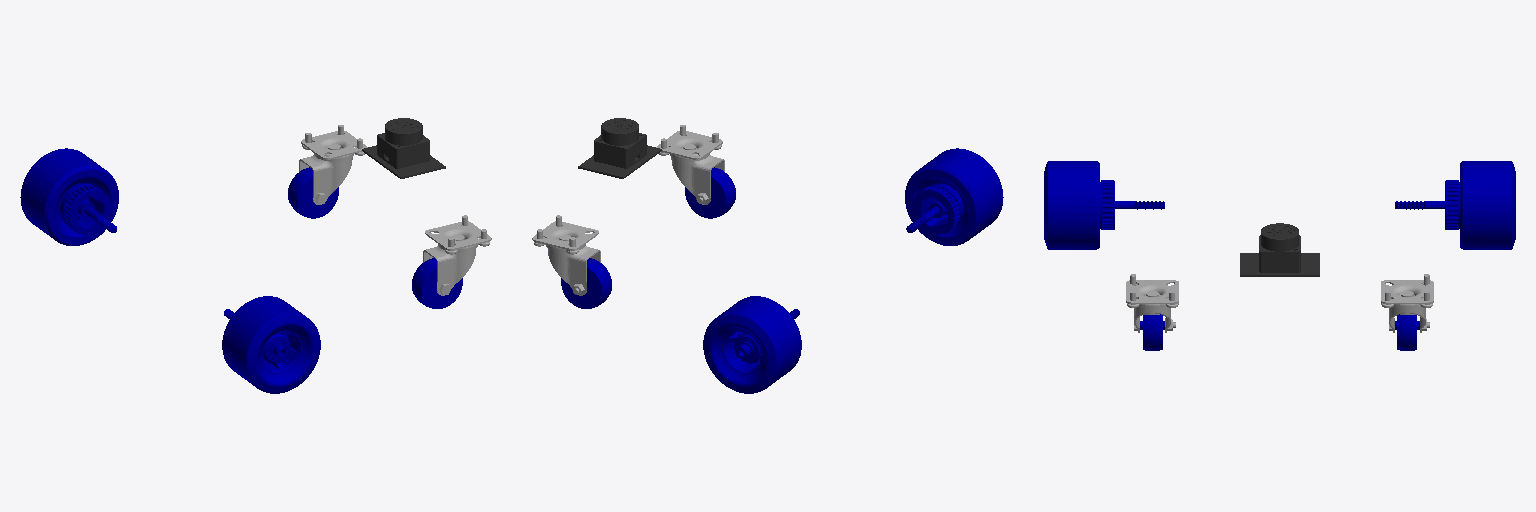
robot.urdf — scuttle:
<?xml version="1.0" ?>
<!-- =================================================================================== -->
<!-- |    This document was autogenerated by xacro from /home/daniesh/drl_docker/scuttle_classic/urdf/scuttle.xacro | -->
<!-- |    EDITING THIS FILE BY HAND IS NOT RECOMMENDED                                 | -->
<!-- =================================================================================== -->
<robot name="scuttle">
  <material name="silver">
    <color rgba="0.700 0.700 0.700 1.000"/>
  </material>
  <material name="gray">
    <color rgba="0.250 0.250 0.250 1.000"/>
  </material>
  <material name="blue">
    <color rgba="0.000 0.000 0.700 1.000"/>
  </material>
  <!-- Left wheel joint transmission (velocity-controlled) -->
  <transmission name="l_wheel_joint_tran">
    <type>transmission_interface/SimpleTransmission</type>
    <joint name="l_wheel_joint">
      <hardwareInterface>hardware_interface/VelocityJointInterface</hardwareInterface>
    </joint>
    <actuator name="l_wheel_joint_actr">
      <hardwareInterface>hardware_interface/VelocityJointInterface</hardwareInterface>
      <mechanicalReduction>1</mechanicalReduction>
    </actuator>
  </transmission>
  <!-- Right wheel joint transmission (velocity-controlled) -->
  <transmission name="r_wheel_joint_tran">
    <type>transmission_interface/SimpleTransmission</type>
    <joint name="r_wheel_joint">
      <hardwareInterface>hardware_interface/VelocityJointInterface</hardwareInterface>
    </joint>
    <actuator name="r_wheel_joint_actr">
      <hardwareInterface>hardware_interface/VelocityJointInterface</hardwareInterface>
      <mechanicalReduction>1</mechanicalReduction>
    </actuator>
  </transmission>
  <!-- Right caster swivel (passive) -->
  <transmission name="r_caster_swivel_joint_tran">
    <type>transmission_interface/SimpleTransmission</type>
    <joint name="r_caster_swivel_joint">
      <hardwareInterface>hardware_interface/EffortJointInterface</hardwareInterface>
    </joint>
    <actuator name="r_caster_swivel_joint_actr">
      <hardwareInterface>hardware_interface/EffortJointInterface</hardwareInterface>
      <mechanicalReduction>1</mechanicalReduction>
    </actuator>
  </transmission>
  <!-- Left caster swivel (passive) -->
  <transmission name="l_caster_swivel_joint_tran">
    <type>transmission_interface/SimpleTransmission</type>
    <joint name="l_caster_swivel_joint">
      <hardwareInterface>hardware_interface/EffortJointInterface</hardwareInterface>
    </joint>
    <actuator name="l_caster_swivel_joint_actr">
      <hardwareInterface>hardware_interface/EffortJointInterface</hardwareInterface>
      <mechanicalReduction>1</mechanicalReduction>
    </actuator>
  </transmission>
  <!-- Right caster wheel (passive) -->
  <transmission name="r_caster_wheel_joint_tran">
    <type>transmission_interface/SimpleTransmission</type>
    <joint name="r_caster_wheel_joint">
      <hardwareInterface>hardware_interface/EffortJointInterface</hardwareInterface>
    </joint>
    <actuator name="r_caster_wheel_joint_actr">
      <hardwareInterface>hardware_interface/EffortJointInterface</hardwareInterface>
      <mechanicalReduction>1</mechanicalReduction>
    </actuator>
  </transmission>
  <!-- Left caster wheel (passive) -->
  <transmission name="l_caster_wheel_joint_tran">
    <type>transmission_interface/SimpleTransmission</type>
    <joint name="l_caster_wheel_joint">
      <hardwareInterface>hardware_interface/EffortJointInterface</hardwareInterface>
    </joint>
    <actuator name="l_caster_wheel_joint_actr">
      <hardwareInterface>hardware_interface/EffortJointInterface</hardwareInterface>
      <mechanicalReduction>1</mechanicalReduction>
    </actuator>
  </transmission>
  <!-- Surface properties -->
  <gazebo reference="base_link">
    <material>0.7 0.7 0.7 1.0</material>
  </gazebo>
  <gazebo reference="chassis_link">
    <material>0.7 0.7 0.7 1.0</material>
  </gazebo>
  <gazebo reference="l_wheel">
    <material>0 0 0.7 1.0</material>
    <mu1>0.9</mu1>
    <mu2>0.9</mu2>
  </gazebo>
  <gazebo reference="r_wheel">
    <material>0 0 0.7 1.0</material>
    <mu1>0.9</mu1>
    <mu2>0.9</mu2>
  </gazebo>
  <gazebo reference="l_caster_swivel">
    <material>0.7 0.7 0.7 1.0</material>
    <mu1>0.2</mu1>
    <mu2>0.2</mu2>
  </gazebo>
  <gazebo reference="r_caster_swivel">
    <material>0.7 0.7 0.7 1.0</material>
    <mu1>0.2</mu1>
    <mu2>0.2</mu2>
  </gazebo>
  <gazebo reference="l_caster_wheel">
    <material>0 0 0.7 1.0</material>
    <mu1>0.4</mu1>
    <mu2>0.4</mu2>
  </gazebo>
  <gazebo reference="r_caster_wheel">
    <material>0 0 0.7 1.0</material>
    <mu1>0.4</mu1>
    <mu2>0.4</mu2>
  </gazebo>
  <!-- Differential Drive Plugin -->
  <gazebo>
    <plugin filename="gz-sim-diff-drive-system" name="gz::sim::systems::DiffDrive">
      <!-- Joints -->
      <left_joint>l_wheel_joint</left_joint>
      <right_joint>r_wheel_joint</right_joint>
      <!-- Kinematics -->
      <wheel_separation>0.4247</wheel_separation>
      <wheel_radius>0.04165</wheel_radius>
      <!-- Limits -->
      <max_linear_acceleration>1.0</max_linear_acceleration>
      <min_linear_acceleration>-1.0</min_linear_acceleration>
      <max_angular_acceleration>2.0</max_angular_acceleration>
      <min_angular_acceleration>-2.0</min_angular_acceleration>
      <max_linear_velocity>0.5</max_linear_velocity>
      <min_linear_velocity>-0.5</min_linear_velocity>
      <max_angular_velocity>1.0</max_angular_velocity>
      <min_angular_velocity>-1.0</min_angular_velocity>
      <!-- Topics -->
      <topic>/cmd_vel</topic>
      <odom_topic>/odom</odom_topic>
      <!-- Frames (NO namespace prefix) -->
      <frame_id>odom</frame_id>
      <child_frame_id>base_link</child_frame_id>
      <!-- TF Publishing -->
      <odom_publish_frequency>50.0</odom_publish_frequency>
      <publish_odom>true</publish_odom>
      <publish_odom_tf>true</publish_odom_tf>
      <publish_wheel_tf>false</publish_wheel_tf>
    </plugin>
  </gazebo>
  <!-- Joint State Publisher -->
  <gazebo>
    <plugin filename="gz-sim-joint-state-publisher-system" name="gz::sim::systems::JointStatePublisher">
      <topic>/joint_states</topic>
      <joint_name>l_wheel_joint</joint_name>
      <joint_name>r_wheel_joint</joint_name>
      <joint_name>l_caster_swivel_joint</joint_name>
      <joint_name>r_caster_swivel_joint</joint_name>
      <joint_name>l_caster_wheel_joint</joint_name>
      <joint_name>r_caster_wheel_joint</joint_name>
    </plugin>
  </gazebo>
  <!-- YDLidar X4 Sensor -->
  <gazebo reference="lidar_1">
    <sensor name="ydlidar_x4" type="gpu_lidar">
      <topic>/scan</topic>
      <ignition_frame_id>lidar_1</ignition_frame_id>
      <gz_frame_id>lidar_1</gz_frame_id>
      <update_rate>10.0</update_rate>
      <!-- Standard X4 frequency is 10Hz -->
      <ray>
        <scan>
          <horizontal>
            <samples>360</samples>
            <!-- 1 sample per degree -->
            <resolution>1</resolution>
            <min_angle>-3.1415926535</min_angle>
            <max_angle>3.1415926535</max_angle>
          </horizontal>
        </scan>
        <range>
          <min>0.12</min>
          <!-- Standard X4 minimum range is 120mm -->
          <max>10.0</max>
          <!-- Standard reliable indoor range is 10m -->
          <resolution>0.01</resolution>
        </range>
        <noise>
          <type>gaussian</type>
          <mean>0.0</mean>
          <stddev>0.01</stddev>
        </noise>
      </ray>
      <always_on>true</always_on>
      <visualize>true</visualize>
    </sensor>
  </gazebo>
  <link name="base_link"/>
  <joint name="chassis_joint" type="fixed">
    <origin rpy="0 0 0" xyz="0.25075 0 0.084749938964843793"/>
    <parent link="base_link"/>
    <child link="chassis_link"/>
  </joint>
  <link name="chassis_link">
    <inertial>
      <origin rpy="0 0 0" xyz="-0.15472 0.11007 0.0067461"/>
      <mass value="1.314"/>
      <inertia ixx="0.0025673" ixy="-2.165E-07" ixz="-3.2707E-06" iyy="0.0019434" iyz="1.4947E-07" izz="0.0042618"/>
    </inertial>
    <visual>
      <origin rpy="0 0 0" xyz="0 0 0"/>
      <geometry>
        <mesh filename="package://scuttle_description/meshes/sw/chassis_link.STL" scale="1 1 1"/>
      </geometry>
      <material name="silver"/>
    </visual>
    <collision>
      <origin rpy="0 0 0" xyz="0 0 0"/>
      <geometry>
        <mesh filename="package://scuttle_description/meshes/sw/chassis_link.STL" scale="1 1 1"/>
      </geometry>
    </collision>
  </link>
  <joint name="l_wheel_joint" type="continuous">
    <origin rpy="0 0 0" xyz="-0.25075 -0.07277 -0.0255"/>
    <parent link="chassis_link"/>
    <child link="l_wheel"/>
    <axis xyz="0 1 0"/>
  </joint>
  <link name="l_wheel">
    <inertial>
      <origin rpy="0 0 0" xyz="3.6753910526155E-08 0.379920381390465 4.1744959514145E-07"/>
      <mass value="0.283794330016012"/>
      <inertia ixx="0.000200549433706374" ixy="-9.89319448183521E-10" ixz="-5.86027651127705E-10" iyy="0.000230387381127549" iyz="7.09952209978501E-10" izz="0.000200549153406663"/>
    </inertial>
    <visual>
      <origin rpy="0 0 0" xyz="0 0 0"/>
      <geometry>
        <mesh filename="package://scuttle_description/meshes/sw/l_wheel.STL" scale="1 1 1"/>
      </geometry>
      <material name="blue"/>
    </visual>
    <collision>
      <origin rpy="0 0 0" xyz="0 0 0"/>
      <geometry>
        <mesh filename="package://scuttle_description/meshes/sw/l_wheel.STL" scale="1 1 1"/>
      </geometry>
    </collision>
  </link>
  <joint name="r_wheel_joint" type="continuous">
    <origin rpy="0 0 0" xyz="-0.25075 0.31127 -0.0255"/>
    <parent link="chassis_link"/>
    <child link="r_wheel"/>
    <axis xyz="0 1 0"/>
  </joint>
  <link name="r_wheel">
    <inertial>
      <origin rpy="0 0 0" xyz="-3.67532115297386E-08 -0.379920381376333 4.17450763720573E-07"/>
      <mass value="0.283794330161645"/>
      <inertia ixx="0.000200549433787431" ixy="-9.89320765409997E-10" ixz="5.8601972536345E-10" iyy="0.000230387381128946" iyz="-7.09954783134225E-10" izz="0.000200549153475484"/>
    </inertial>
    <visual>
      <origin rpy="0 0 0" xyz="0 0 0"/>
      <geometry>
        <mesh filename="package://scuttle_description/meshes/sw/r_wheel.STL" scale="1 1 1"/>
      </geometry>
      <material name="blue"/>
    </visual>
    <collision>
      <origin rpy="0 0 0" xyz="0 0 0"/>
      <geometry>
        <mesh filename="package://scuttle_description/meshes/sw/r_wheel.STL" scale="1 1 1"/>
      </geometry>
    </collision>
  </link>
  <joint name="scan_joint" type="fixed">
    <origin rpy="0 0 0" xyz="0.00825 0.11925 0.062025"/>
    <parent link="chassis_link"/>
    <child link="base_scan"/>
  </joint>
  <link name="base_scan">
    <inertial>
      <origin rpy="0 0 0" xyz="5.05625054968151E-05 -1.82810742067424E-07 -0.0143142680812563"/>
      <mass value="0.0511626081585212"/>
      <inertia ixx="9.4431726896802E-06" ixy="1.16370902778088E-07" ixz="1.19194919052246E-08" iyy="7.44580899433581E-06" iyz="7.67735240903272E-11" izz="1.46833890387608E-05"/>
    </inertial>
    <visual>
      <origin rpy="0 0 0" xyz="0 0 0"/>
      <geometry>
        <mesh filename="package://scuttle_description/meshes/sw/lidar_1.STL" scale="1 1 1"/>
      </geometry>
      <material name="gray"/>
    </visual>
    <collision>
      <origin rpy="0 0 0" xyz="0 0 0"/>
      <geometry>
        <mesh filename="package://scuttle_description/meshes/sw/lidar_1.STL" scale="1 1 1"/>
      </geometry>
    </collision>
  </link>
  <joint name="l_caster_swivel_joint" type="continuous">
    <origin rpy="0 0 0" xyz="0 0 0"/>
    <parent link="chassis_link"/>
    <child link="l_caster_swivel"/>
    <axis xyz="0 0 -1"/>
  </joint>
  <link name="l_caster_swivel">
    <inertial>
      <origin rpy="0 0 0" xyz="-0.00238003497237424 -0.000527953313655571 -0.00772671935388341"/>
      <mass value="0.183282825967115"/>
      <inertia ixx="2.91526534427435E-05" ixy="-1.53768220855742E-10" ixz="-2.67813392257543E-06" iyy="2.92466395062805E-05" iyz="2.48844541083131E-10" izz="4.27585384079886E-05"/>
    </inertial>
    <visual>
      <origin rpy="0 0 0" xyz="0 0 0"/>
      <geometry>
        <mesh filename="package://scuttle_description/meshes/sw/l_caster_swivel.STL" scale="1 1 1"/>
      </geometry>
      <material name="silver"/>
    </visual>
    <collision>
      <origin rpy="0 0 0" xyz="0 0 0"/>
      <geometry>
        <mesh filename="package://scuttle_description/meshes/sw/l_caster_swivel.STL" scale="1 1 1"/>
      </geometry>
    </collision>
  </link>
  <joint name="l_caster_wheel_joint" type="continuous">
    <origin rpy="0 0 0" xyz="-0.0234 0 -0.0435"/>
    <parent link="l_caster_swivel"/>
    <child link="l_caster_wheel"/>
    <axis xyz="0 1 0"/>
  </joint>
  <link name="l_caster_wheel">
    <inertial>
      <origin rpy="0 0 0" xyz="-2.77555756156289E-17 2.77555756156289E-17 6.93889390390723E-18"/>
      <mass value="0.034306971498681"/>
      <inertia ixx="6.0005051056636E-06" ixy="5.84206171313588E-22" ixz="-5.93592027393262E-25" iyy="1.00026864795821E-05" iyz="-1.07427123594847E-21" izz="6.0005051056636E-06"/>
    </inertial>
    <visual>
      <origin rpy="0 0 0" xyz="0 0 0"/>
      <geometry>
        <mesh filename="package://scuttle_description/meshes/sw/l_caster_wheel.STL" scale="1 1 1"/>
      </geometry>
      <material name="blue"/>
    </visual>
    <collision>
      <origin rpy="0 0 0" xyz="0 0 0"/>
      <geometry>
        <mesh filename="package://scuttle_description/meshes/sw/l_caster_wheel.STL" scale="1 1 1"/>
      </geometry>
    </collision>
  </link>
  <joint name="r_caster_swivel_joint" type="continuous">
    <origin rpy="0 0 0" xyz="0 0.2385 0"/>
    <parent link="chassis_link"/>
    <child link="r_caster_swivel"/>
    <axis xyz="0 0 -1"/>
  </joint>
  <link name="r_caster_swivel">
    <inertial>
      <origin rpy="0 0 0" xyz="-0.00238003497237435 0.000563596168910621 -0.00772671935388337"/>
      <mass value="0.183282825967115"/>
      <inertia ixx="2.91526534427435E-05" ixy="-1.53768220867403E-10" ixz="-2.67813392257511E-06" iyy="2.92466395062278E-05" iyz="2.48844541032968E-10" izz="4.27585384079358E-05"/>
    </inertial>
    <visual>
      <origin rpy="0 0 0" xyz="0 0 0"/>
      <geometry>
        <mesh filename="package://scuttle_description/meshes/sw/r_caster_swivel.STL" scale="1 1 1"/>
      </geometry>
      <material name="silver"/>
    </visual>
    <collision>
      <origin rpy="0 0 0" xyz="0 0 0"/>
      <geometry>
        <mesh filename="package://scuttle_description/meshes/sw/r_caster_swivel.STL" scale="1 1 1"/>
      </geometry>
    </collision>
  </link>
  <joint name="r_caster_wheel_joint" type="continuous">
    <origin rpy="0 0 0" xyz="-0.0234 0 -0.0435"/>
    <parent link="r_caster_swivel"/>
    <child link="r_caster_wheel"/>
    <axis xyz="0 1 0"/>
  </joint>
  <link name="r_caster_wheel">
    <inertial>
      <origin rpy="0 0 0" xyz="-2.77555756156289E-17 -1.38777878078145E-17 6.93889390390723E-18"/>
      <mass value="0.034306971498681"/>
      <inertia ixx="6.0005051056636E-06" ixy="1.41820411380178E-22" ixz="9.344028433006E-25" iyy="1.00026864795821E-05" iyz="-1.69349177229285E-22" izz="6.0005051056636E-06"/>
    </inertial>
    <visual>
      <origin rpy="0 0 0" xyz="0 0 0"/>
      <geometry>
        <mesh filename="package://scuttle_description/meshes/sw/r_caster_wheel.STL" scale="1 1 1"/>
      </geometry>
      <material name="blue"/>
    </visual>
    <collision>
      <origin rpy="0 0 0" xyz="0 0 0"/>
      <geometry>
        <mesh filename="package://scuttle_description/meshes/sw/r_caster_wheel.STL" scale="1 1 1"/>
      </geometry>
    </collision>
  </link>
</robot>

--- Facts derived from the render (not from the file) ---
3 views of the same robot in one strip: view 1: azimuth 30°, elevation 25°; view 2: azimuth 150°, elevation 25°; view 3: azimuth 270°, elevation 25° (orthographic).
Robot: scuttle — 9 links, 8 joints (6 continuous, 2 fixed); root link base_link; default pose: all joints at 0.
Links seen in each view (by area): view 1: r_wheel, l_wheel, base_scan, r_caster_swivel, l_caster_swivel, r_caster_wheel, l_caster_wheel; view 2: l_wheel, r_wheel, base_scan, l_caster_swivel, r_caster_swivel, l_caster_wheel, r_caster_wheel; view 3: l_wheel, r_wheel, base_scan, l_caster_swivel, r_caster_swivel, l_caster_wheel, r_caster_wheel.
Boxes of the visible links, bbox=[...] form: r_wheel: bbox=[222, 296, 320, 393]; l_wheel: bbox=[20, 148, 118, 245]; base_scan: bbox=[362, 118, 445, 178]; r_caster_swivel: bbox=[299, 125, 367, 204]; l_caster_swivel: bbox=[423, 215, 491, 295]; r_caster_wheel: bbox=[288, 167, 338, 218]; l_caster_wheel: bbox=[412, 258, 462, 308]; l_wheel: bbox=[703, 296, 801, 393]; r_wheel: bbox=[905, 148, 1003, 245]; base_scan: bbox=[578, 118, 661, 178]; l_caster_swivel: bbox=[656, 125, 724, 204]; r_caster_swivel: bbox=[532, 215, 600, 295]; l_caster_wheel: bbox=[685, 167, 735, 218]; r_caster_wheel: bbox=[561, 258, 611, 308]; l_wheel: bbox=[1395, 161, 1515, 249]; r_wheel: bbox=[1044, 161, 1164, 249]; base_scan: bbox=[1240, 223, 1319, 276]; l_caster_swivel: bbox=[1126, 274, 1178, 332]; r_caster_swivel: bbox=[1381, 274, 1433, 332]; l_caster_wheel: bbox=[1140, 314, 1164, 350]; r_caster_wheel: bbox=[1395, 314, 1419, 350].
Bounding box of the posed robot: 0.3257 × 0.4411 × 0.1363 m (x, y, z).
7 mesh visuals loaded from 8 distinct referenced files (7 binary STL); not drawn: 1 (reference not matched to a file when rendering).
